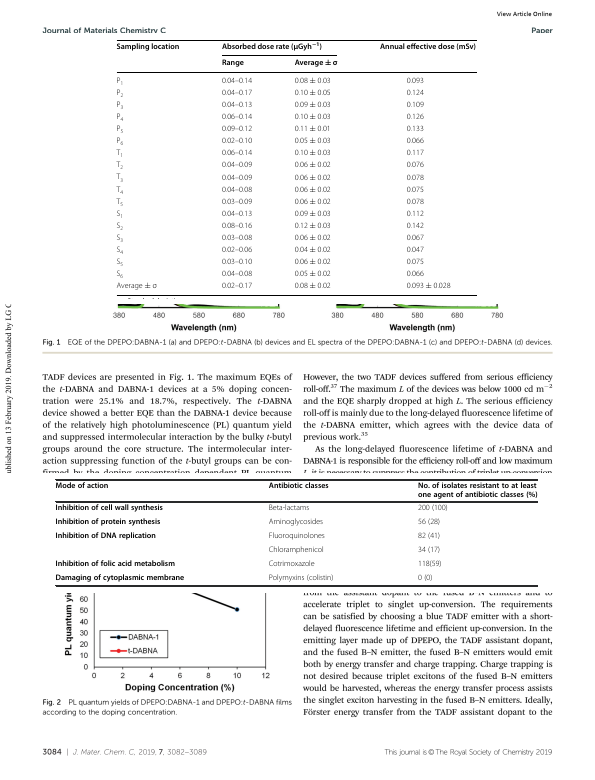borderless: (115, 38, 477, 295), (54, 478, 537, 585)
cell: (417, 482, 538, 500), (55, 574, 185, 584), (55, 560, 176, 570), (221, 41, 323, 52), (55, 504, 164, 514), (55, 518, 161, 528), (55, 532, 157, 542), (379, 42, 477, 52), (268, 574, 334, 584), (116, 42, 180, 52), (268, 532, 326, 542), (268, 518, 324, 528), (268, 546, 324, 556), (268, 482, 330, 491), (55, 482, 109, 491), (268, 560, 315, 570), (294, 58, 338, 68), (268, 504, 310, 514), (406, 282, 452, 291), (115, 282, 158, 291), (294, 76, 332, 86), (294, 88, 332, 98), (294, 197, 332, 207), (294, 209, 332, 219), (294, 101, 332, 110), (294, 113, 332, 122), (294, 125, 332, 134), (294, 137, 332, 146), (294, 149, 332, 158), (294, 161, 332, 170), (294, 173, 332, 182), (294, 185, 332, 194), (294, 222, 332, 231), (294, 234, 332, 243), (294, 246, 332, 255), (294, 258, 332, 267), (294, 270, 332, 279), (294, 282, 332, 291), (221, 76, 253, 86), (221, 88, 253, 98), (221, 197, 253, 207), (221, 209, 253, 219), (417, 504, 448, 514), (221, 101, 253, 110), (221, 113, 253, 122), (221, 125, 253, 134), (221, 137, 253, 146), (221, 149, 253, 158), (221, 161, 253, 170), (221, 173, 253, 182), (221, 185, 253, 194), (221, 222, 253, 231), (221, 234, 253, 243), (221, 246, 253, 255), (221, 258, 253, 267), (221, 270, 253, 279), (221, 282, 253, 291), (417, 560, 442, 570), (221, 58, 245, 68), (417, 518, 441, 528), (417, 532, 441, 542), (417, 546, 441, 556), (406, 76, 425, 86), (406, 88, 425, 98), (406, 197, 425, 207), (406, 209, 425, 219), (406, 101, 425, 110), (406, 113, 425, 122), (406, 125, 425, 134), (406, 137, 425, 146), (406, 149, 425, 158), (406, 161, 425, 170), (406, 173, 425, 182), (406, 185, 425, 194), (406, 222, 425, 231), (406, 234, 425, 243), (406, 246, 425, 255), (406, 258, 425, 267), (406, 270, 425, 279), (417, 574, 433, 584), (115, 149, 124, 160), (115, 161, 124, 172), (115, 173, 124, 184), (115, 185, 124, 196), (115, 197, 124, 208), (115, 209, 124, 220), (115, 258, 124, 269), (115, 270, 124, 281), (115, 222, 124, 232), (115, 234, 124, 244), (115, 246, 124, 256), (116, 76, 124, 87), (116, 88, 124, 99), (116, 137, 124, 148), (116, 101, 124, 111), (116, 113, 124, 123), (116, 125, 124, 135)
